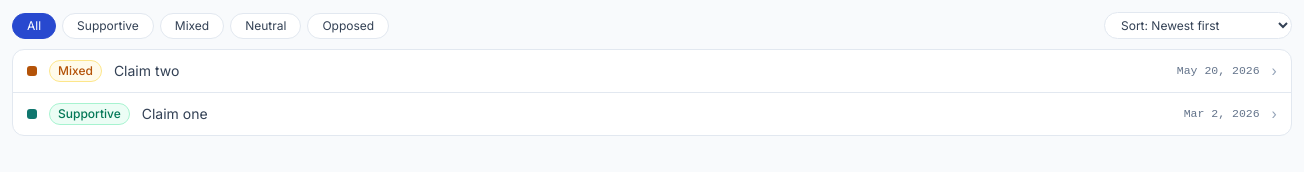
Scenario: EvidenceList › filters by a stance pill and shows the no-evidence note when empty
Click the button "opposed" at (348, 26), box [307,12,389,38]
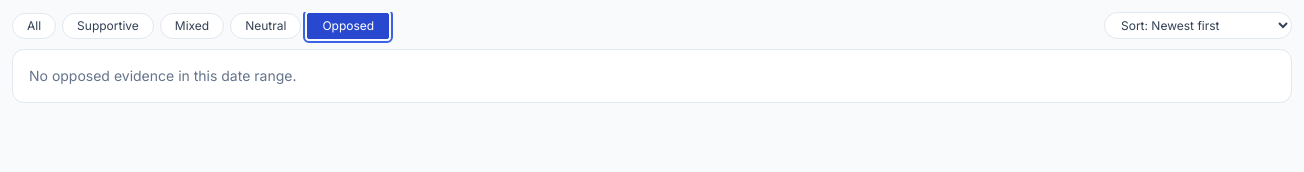
Expected: the text "No opposed evidence in this date range." is shown, [29,67,296,84]
